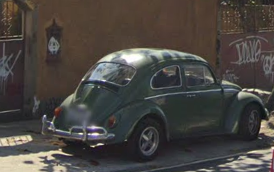car: (39, 47, 269, 160)
